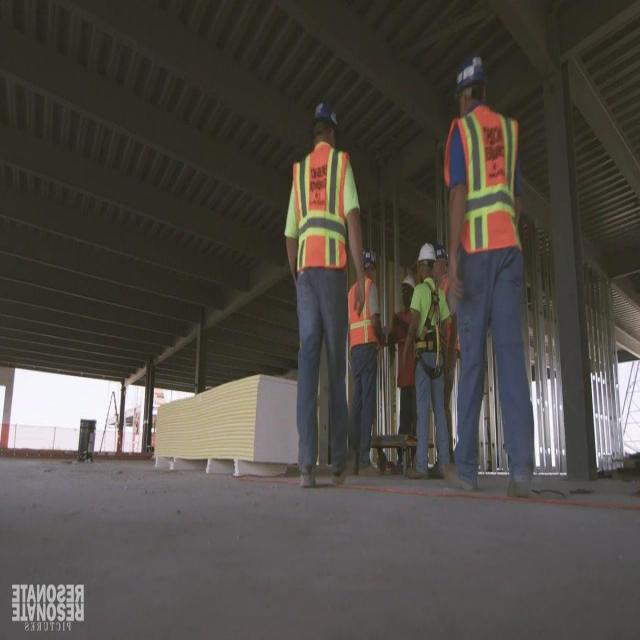Reflective-Jacket: (441, 108, 531, 268), (281, 142, 363, 289), (409, 276, 443, 372), (344, 275, 382, 353), (433, 274, 460, 370)
Safety-Helmet: (448, 43, 497, 105), (304, 89, 344, 143), (414, 236, 440, 270), (360, 244, 380, 276), (398, 268, 418, 298), (432, 241, 450, 270)
